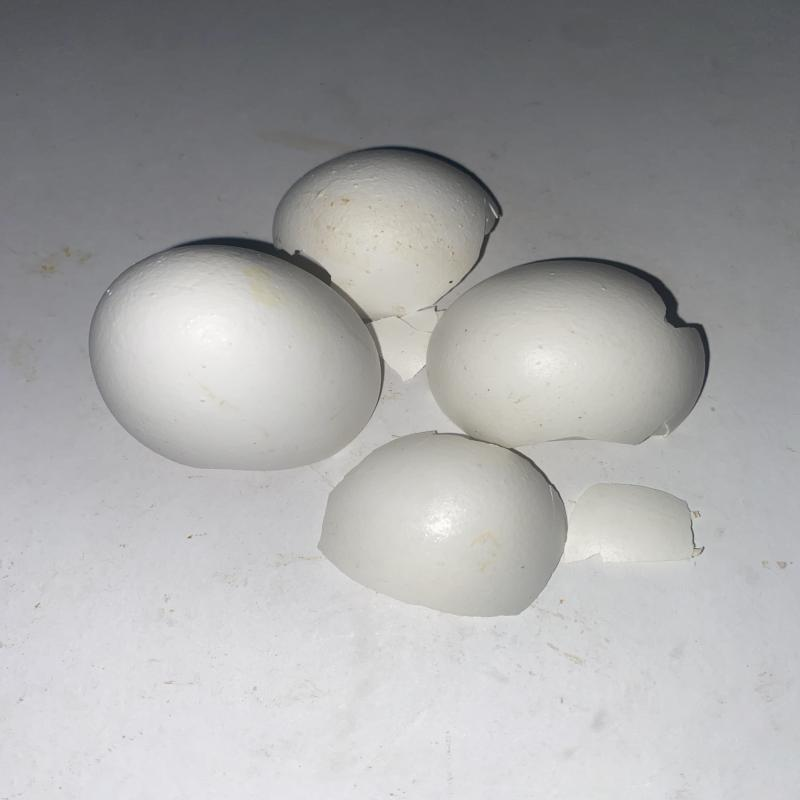egg shell: (88, 242, 385, 472), (424, 257, 712, 451), (316, 432, 570, 620), (272, 146, 503, 323), (562, 483, 705, 568), (366, 307, 438, 383)
